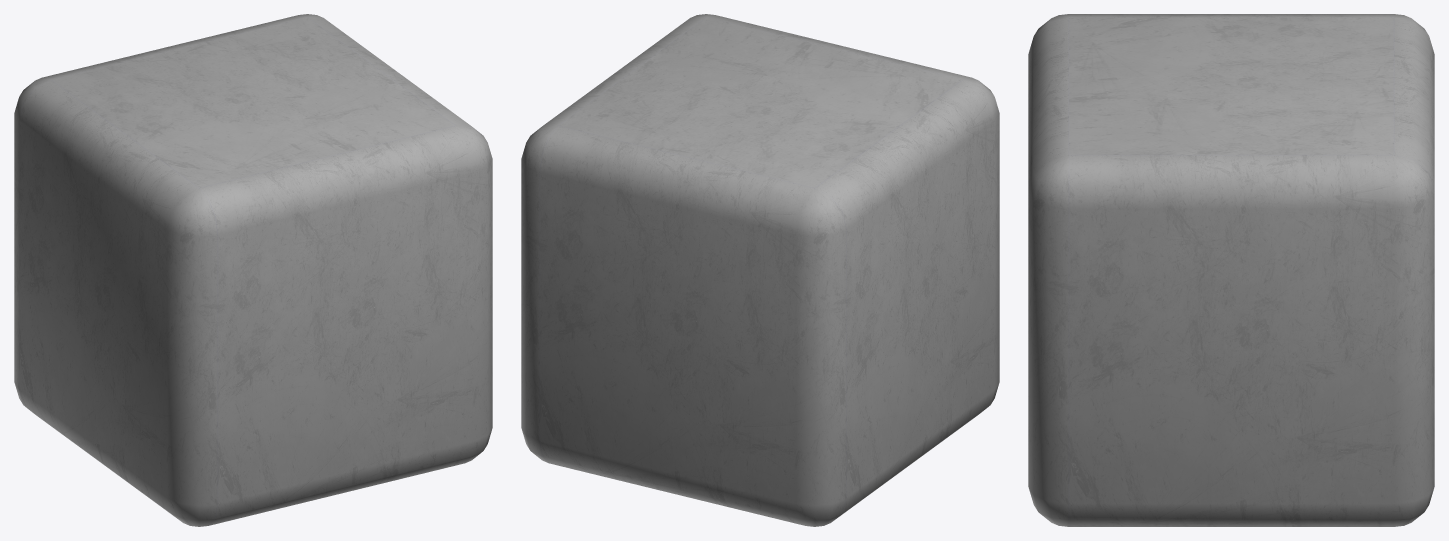
File: RoundedCube.glb
The picture shows the model from 3 angles, left to right: view 1: azimuth 30°, elevation 25°; view 2: azimuth 150°, elevation 25°; view 3: azimuth 270°, elevation 25°; orthographic projection. The views are drawn at different scales.
Parts seen in each view (by area): view 1: RoundedCube; view 2: RoundedCube; view 3: RoundedCube.
Part boxes in pixels (x1=…): RoundedCube: x1=14, y1=14, x2=492, y2=526; RoundedCube: x1=521, y1=14, x2=999, y2=526; RoundedCube: x1=1028, y1=14, x2=1434, y2=526.
Bounding box in the file's own units: 1.54 × 1.54 × 1.54.
Materials: 1 (1 with a texture image).
